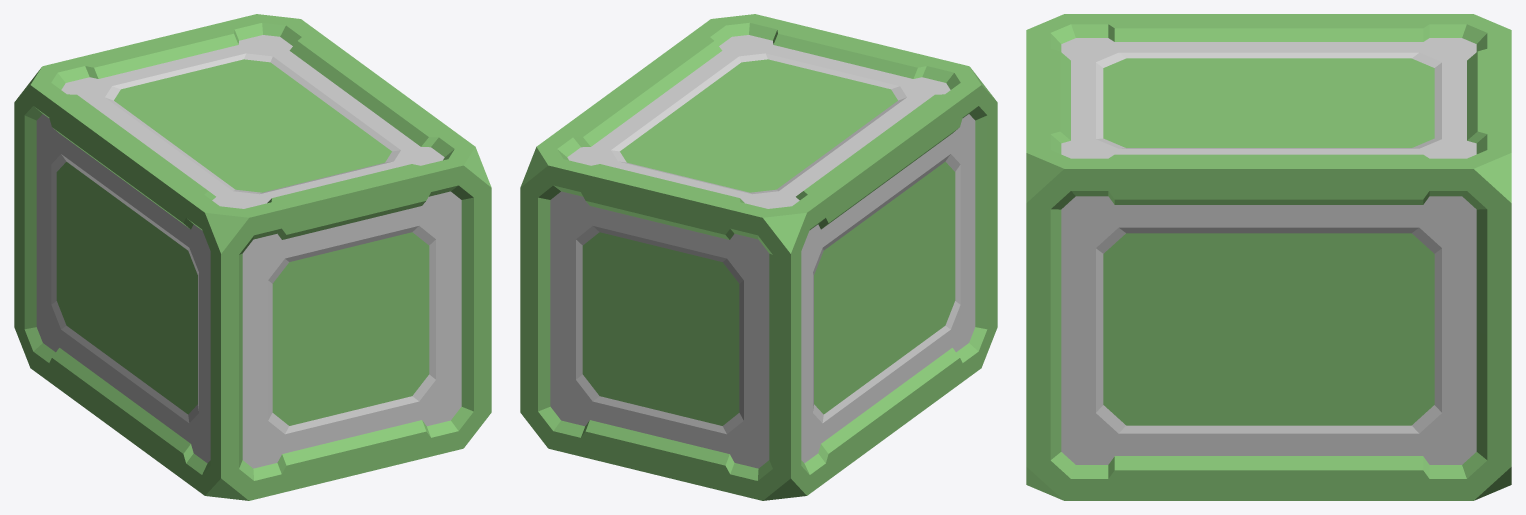
The model's file is crate green med.fbx.
The picture shows the model from 3 angles, left to right: view 1: azimuth 30°, elevation 25°; view 2: azimuth 150°, elevation 25°; view 3: azimuth 270°, elevation 25°; orthographic projection. The views are drawn at different scales.
Parts seen in each view (by area): view 1: Crate Medium.002; view 2: Crate Medium.002; view 3: Crate Medium.002.
Boxes of the visible parts, x1,y1,x2,y2 form: Crate Medium.002: (14,14,491,500); Crate Medium.002: (520,14,997,500); Crate Medium.002: (1026,14,1511,500).
Bounding box in the file's own units: 75.5 × 75.5 × 100.
